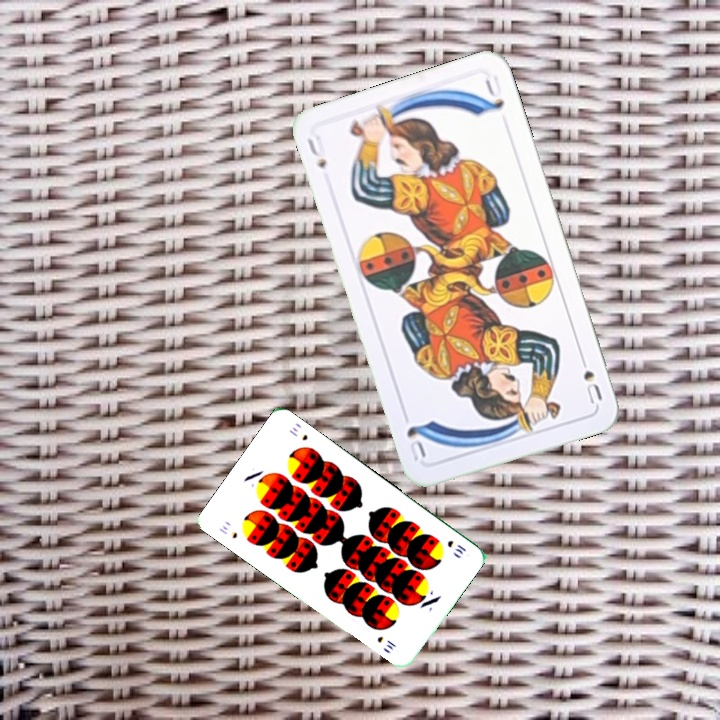S10: (443, 536, 469, 557), (215, 521, 240, 541)
SU: (575, 349, 605, 407), (303, 132, 330, 172)
